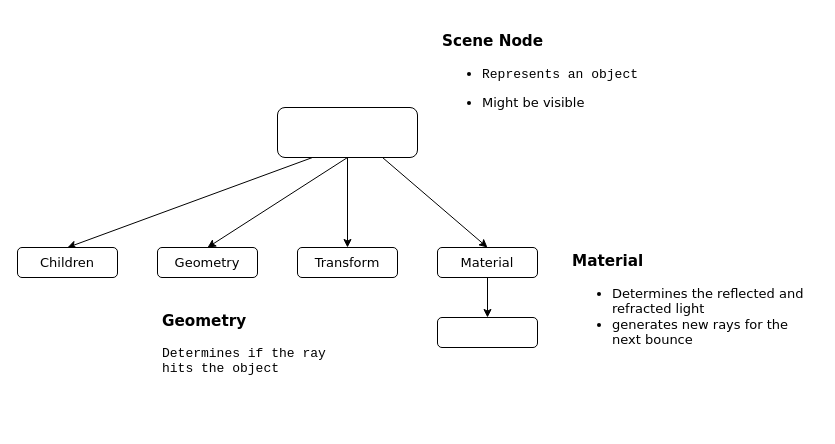
Some shapes in this 835 by 444 pixel diagram are drawn without their labels. The centre of each missing label's shape, as x and y in pixels:
Scene Node: pixel 347 132
Textures: pixel 487 332
